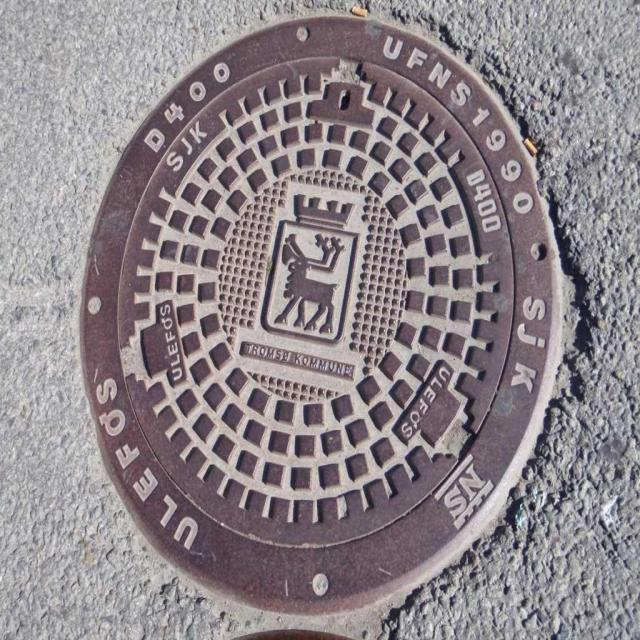manhole: (78, 15, 570, 619)
